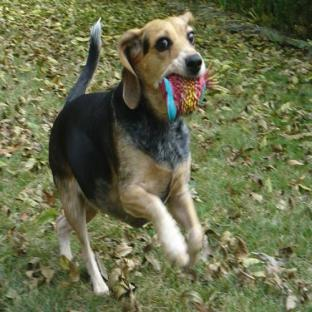Animal: (49, 12, 208, 294)
